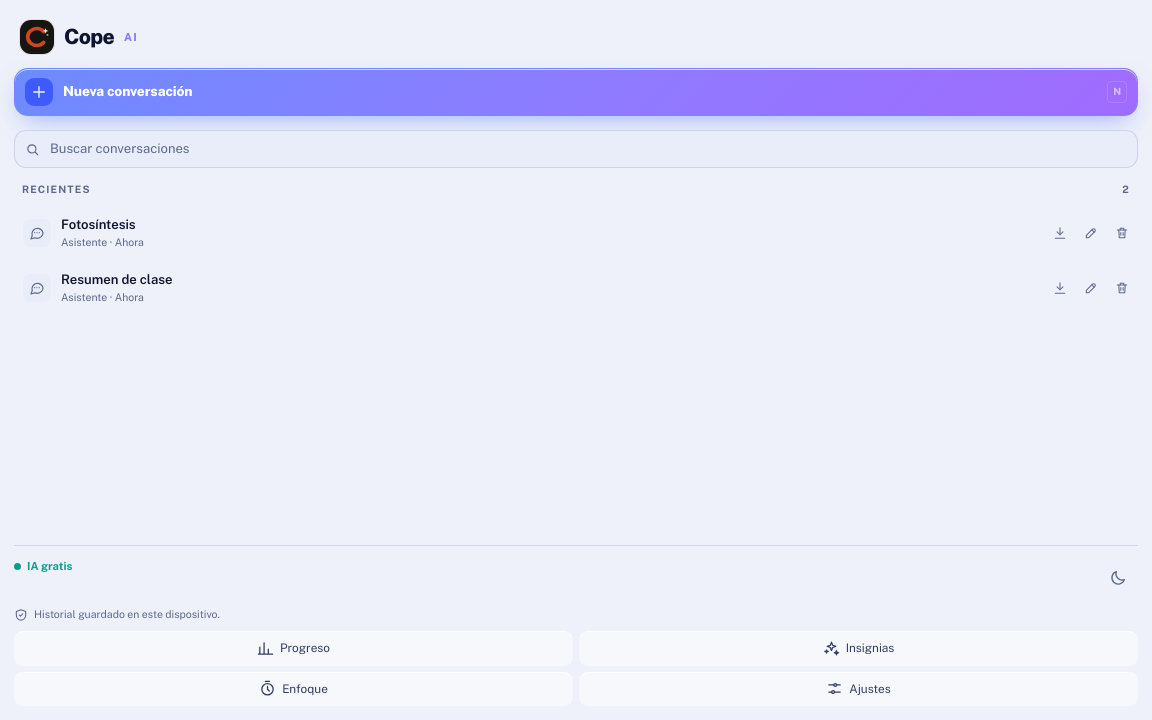
Test: Sidebar › encuentra coincidencias dentro de los mensajes
Type "cloroplastos" into the search field labelled "Buscar conversaciones" at (590, 149), box [48, 138, 1131, 160]
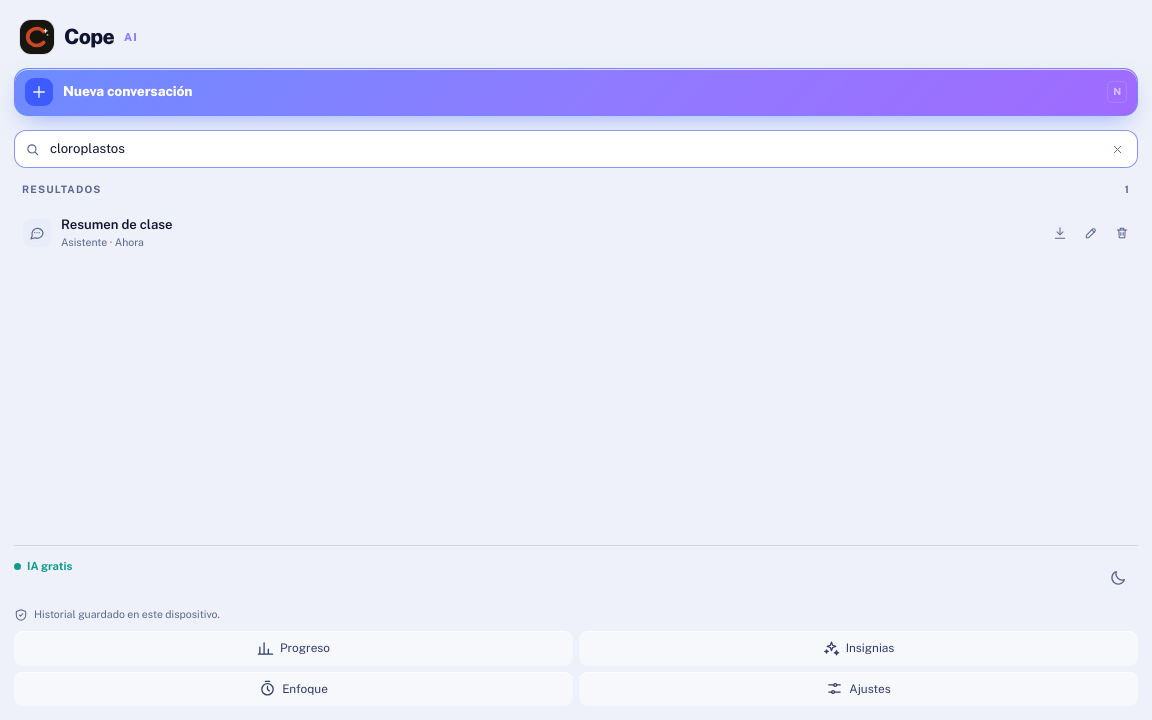
Expected: the text "Resumen de clase" is shown, [61, 216, 172, 234]
Result: the button "Fotosíntesis" is gone
